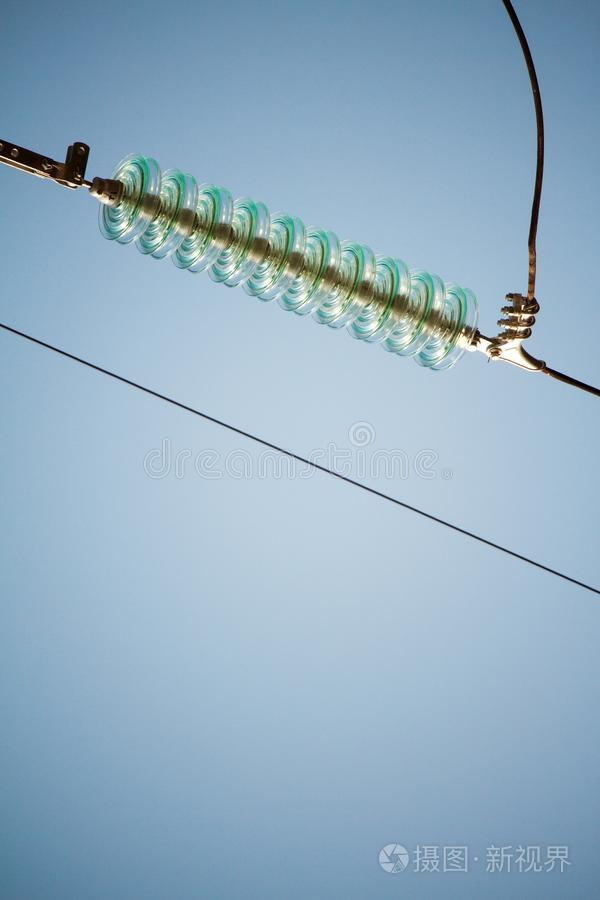insulator: (100, 153, 476, 369)
